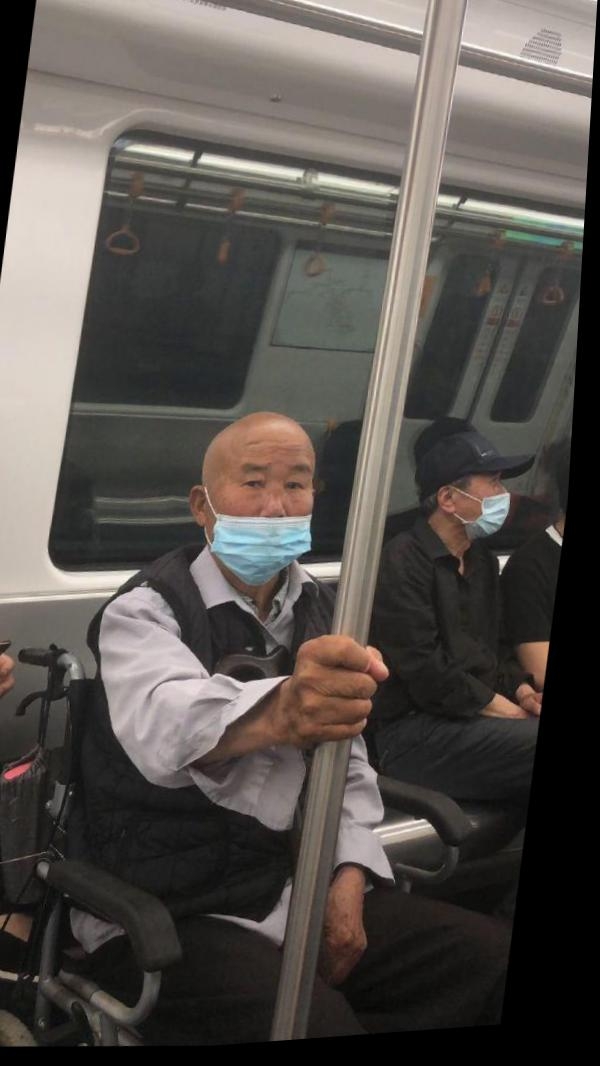OK: (461, 473, 523, 550)
WRONG: (208, 449, 330, 589)
